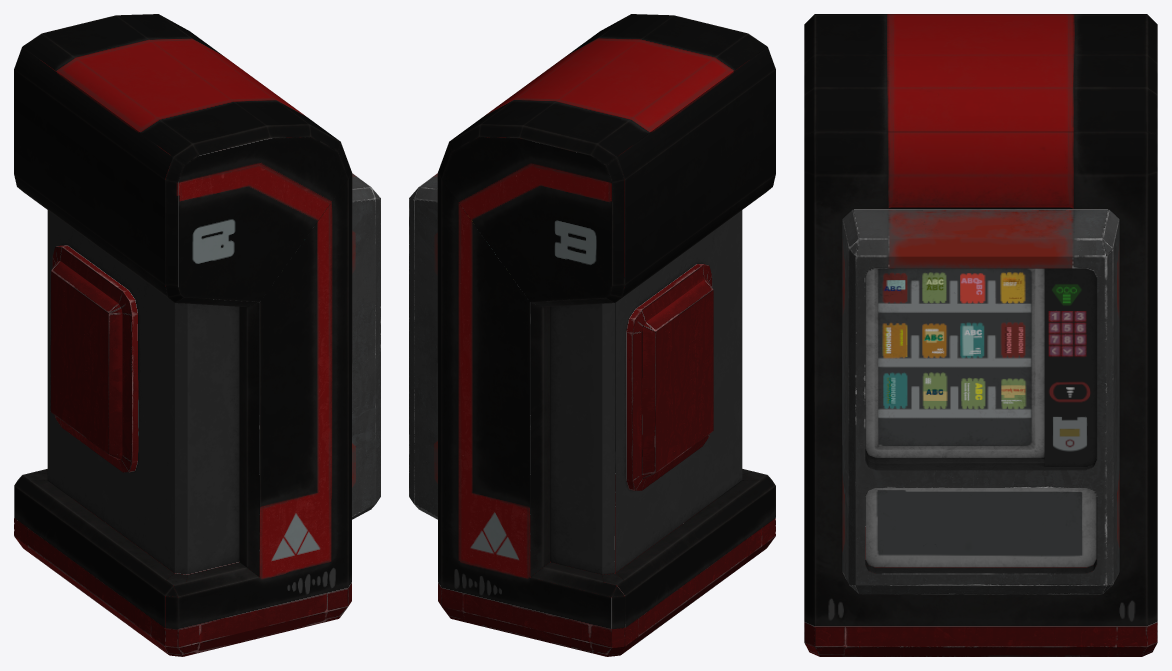
File: VendingMachine black-red.fbx
3 views of the same model, side by side, from view 1: azimuth 30°, elevation 25°; view 2: azimuth 150°, elevation 25°; view 3: azimuth 270°, elevation 25° (orthographic). The views are drawn at different scales.
Parts seen in each view (by area): view 1: VendingMachinebr_low; view 2: VendingMachinebr_low; view 3: VendingMachinebr_low.
Part boxes in pixels (x1,y1,x2,y2): VendingMachinebr_low: (14,14,380,656); VendingMachinebr_low: (409,14,775,656); VendingMachinebr_low: (804,14,1157,656).
Bounding box in the file's own units: 116 × 241 × 138.
1 material, 1 textured.
